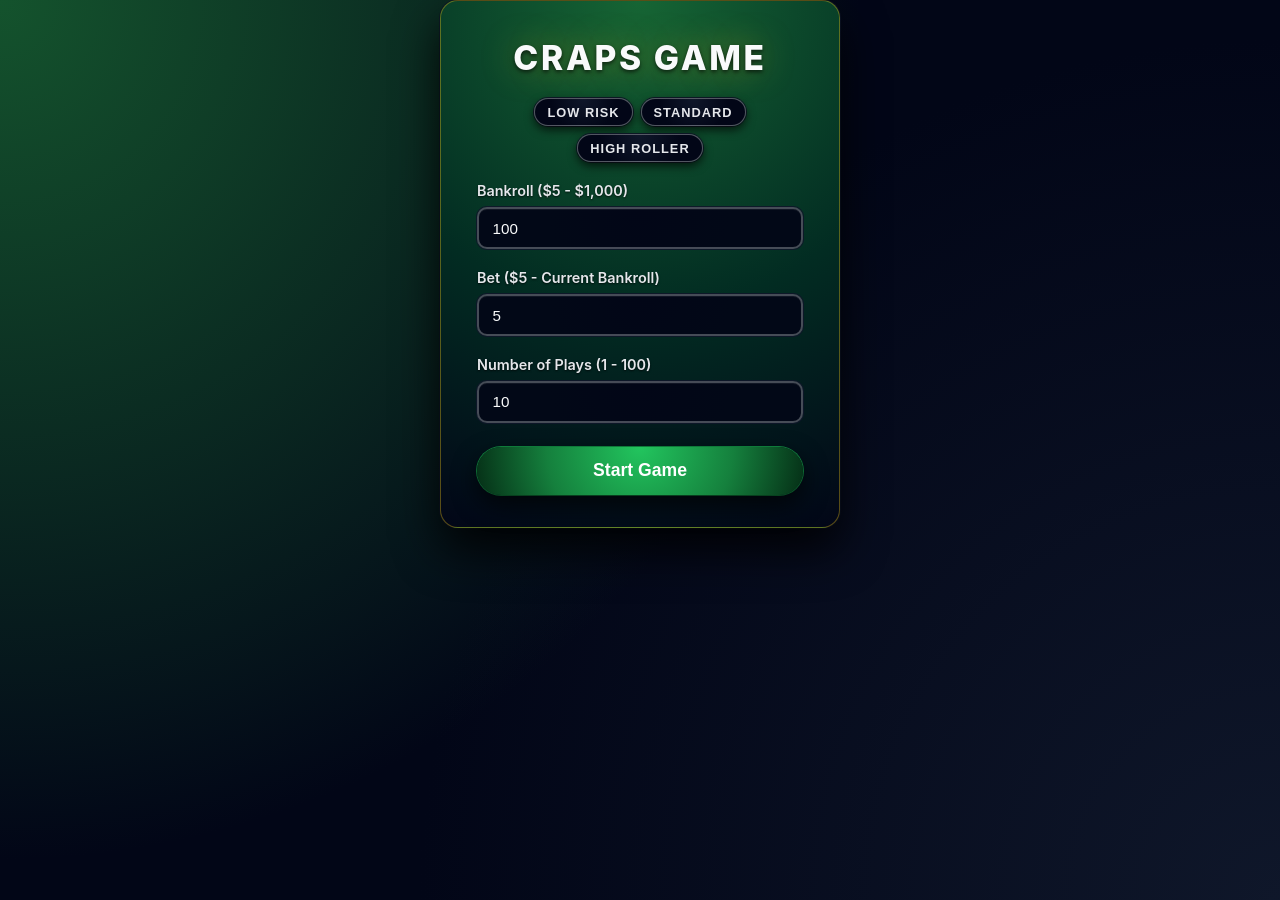
Test: GameControls Component › should mark all fields as touched on submit attempt
// Set invalid values without blurring
Replace the text in the number field labelled "Bankroll ($5 - $1,000)" with "2" at (640, 228), box top-left (477, 207), bottom-right (803, 249)
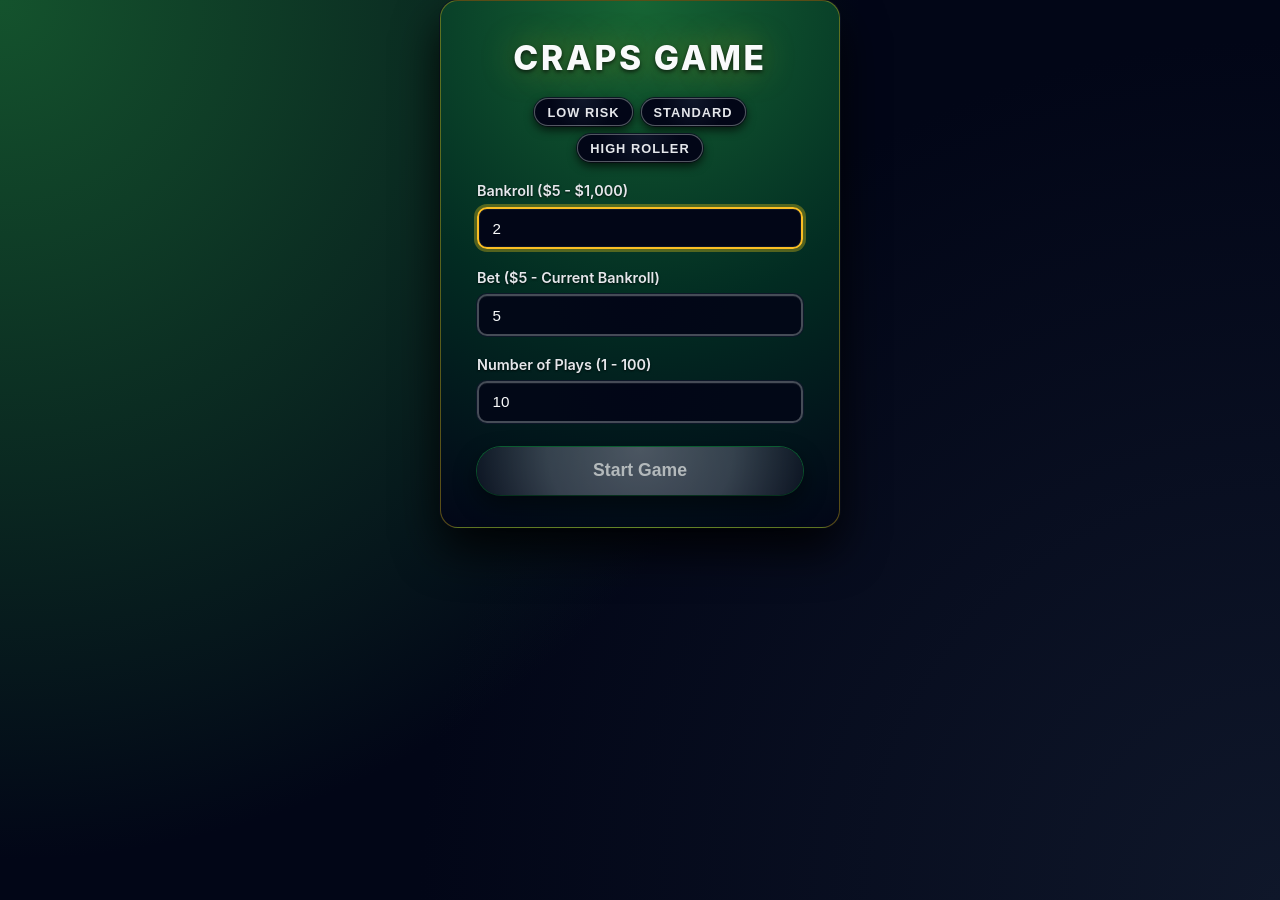
Clear the number field labelled "Bet ($5 - Current Bankroll)" at (640, 315), box top-left (477, 294), bottom-right (803, 336)
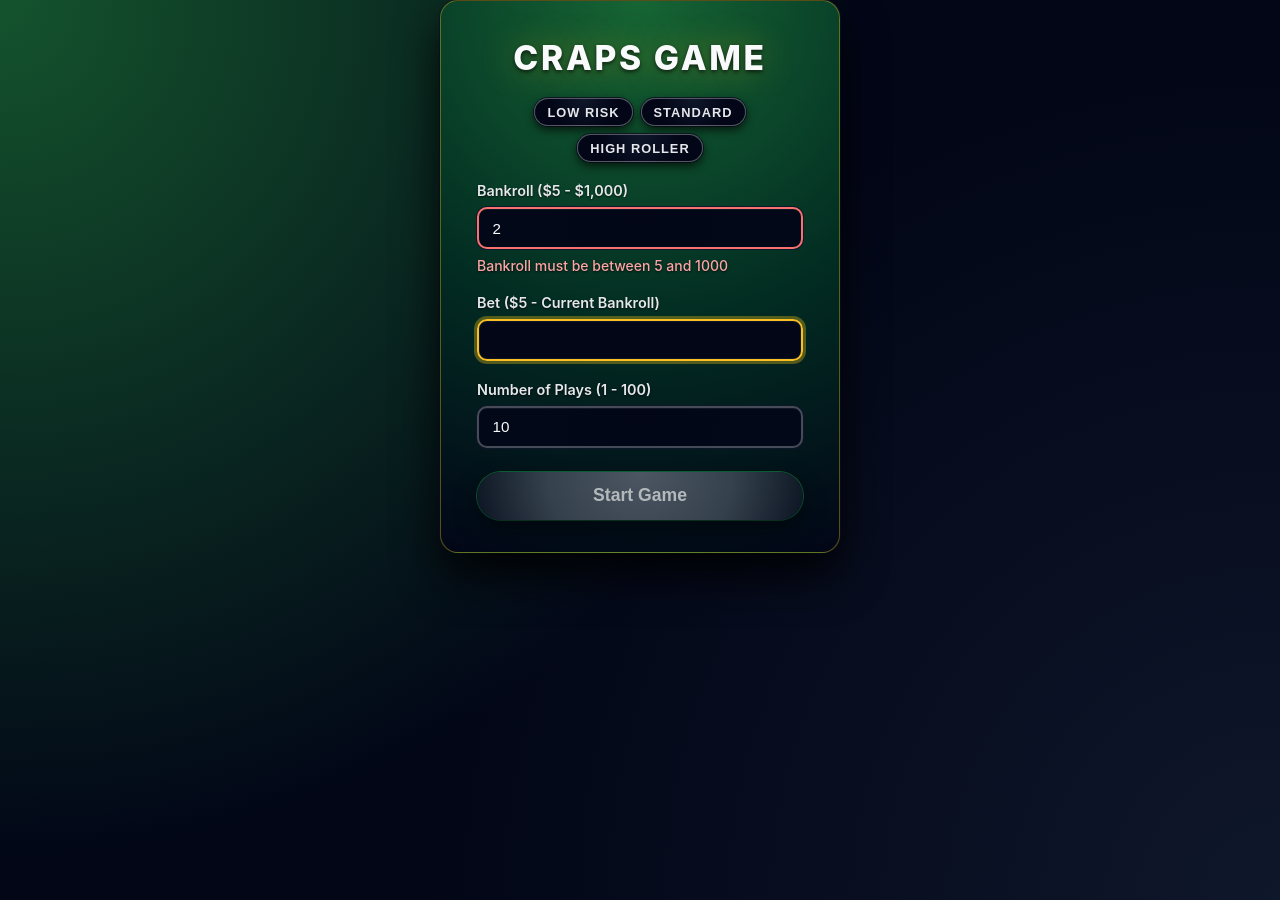
Type "2" into the number field labelled "Bet ($5 - Current Bankroll)" at (640, 340), box top-left (477, 319), bottom-right (803, 361)
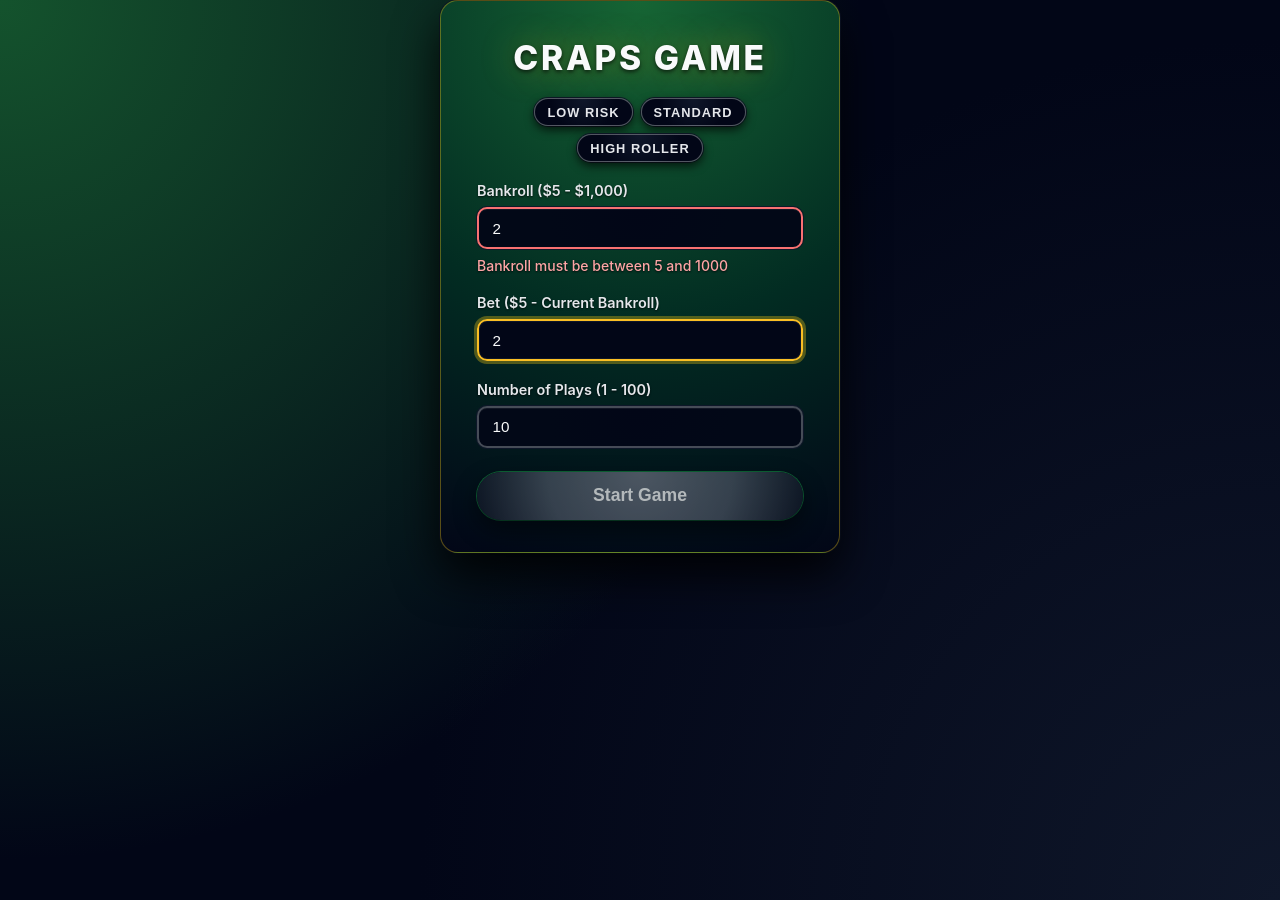
Click the button "Start Game" at (640, 496), box top-left (477, 472), bottom-right (803, 520)
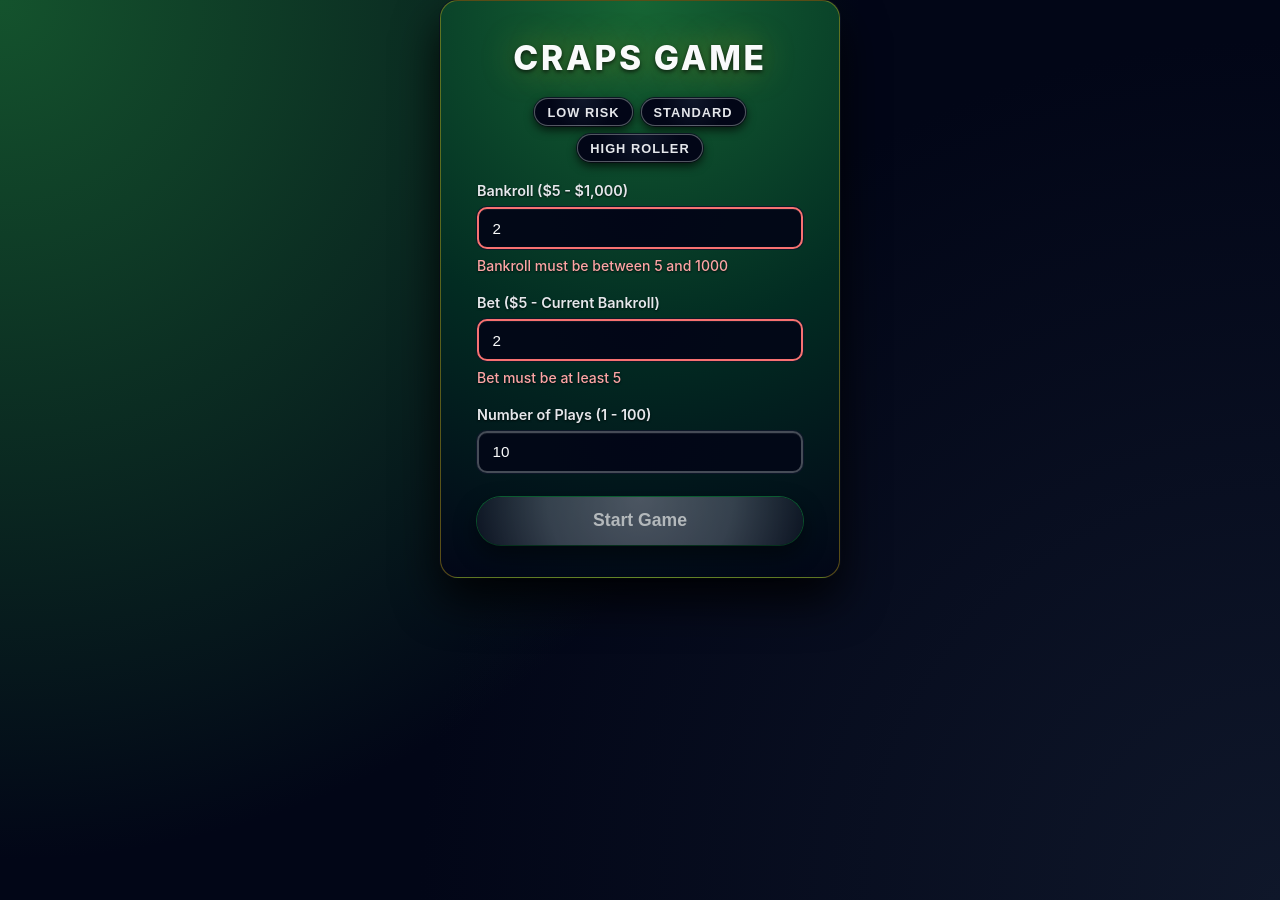
expect the text "Bankroll must be between 5 and 1000" is shown: met, box top-left (477, 257), bottom-right (728, 274)
expect the text "Bet must be at least 5" is shown: met, box top-left (477, 369), bottom-right (621, 386)
